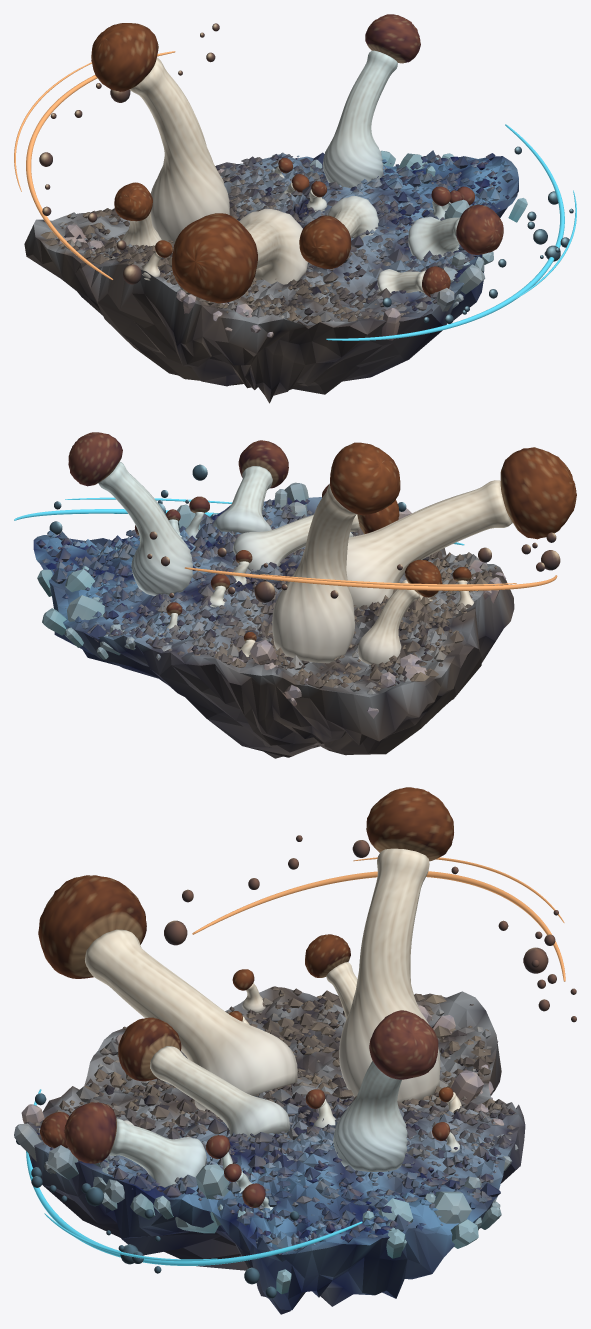
Rendered from Amber-Orbit-Spray-Land.glb.
3 views of the same model, one above another, from view 1: azimuth 30°, elevation 25°; view 2: azimuth 150°, elevation 25°; view 3: azimuth 270°, elevation 25° (orthographic). The views are drawn at different scales.
Parts seen in each view (by area): view 1: Obsidian | mineral crust, Ivory | satin fibers, Chestnut | copper skin, Quartz | warm and cool facets, Dew | blue glass sheen, Orbit | blue, Orbit | copper; view 2: Obsidian | mineral crust, Ivory | satin fibers, Chestnut | copper skin, Quartz | warm and cool facets, Dew | blue glass sheen, Orbit | copper, Orbit | blue; view 3: Obsidian | mineral crust, Ivory | satin fibers, Chestnut | copper skin, Quartz | warm and cool facets, Dew | blue glass sheen, Orbit | copper, Orbit | blue.
Part boxes in pixels (left/top/right/bottom): Obsidian | mineral crust: left=24, top=150, right=518, bottom=403; Ivory | satin fibers: left=122, top=50, right=460, bottom=293; Chestnut | copper skin: left=91, top=14, right=503, bottom=303; Quartz | warm and cool facets: left=57, top=150, right=527, bottom=340; Dew | blue glass sheen: left=39, top=23, right=573, bottom=323; Orbit | blue: left=326, top=124, right=576, bottom=340; Orbit | copper: left=14, top=51, right=175, bottom=279; Obsidian | mineral crust: left=33, top=497, right=514, bottom=758; Ivory | satin fibers: left=98, top=462, right=512, bottom=666; Chestnut | copper skin: left=68, top=432, right=576, bottom=640; Quartz | warm and cool facets: left=37, top=482, right=505, bottom=718; Dew | blue glass sheen: left=49, top=464, right=560, bottom=602; Orbit | copper: left=184, top=567, right=557, bottom=590; Orbit | blue: left=14, top=497, right=464, bottom=545; Obsidian | mineral crust: left=25, top=986, right=525, bottom=1314; Ivory | satin fibers: left=85, top=848, right=461, bottom=1212; Chestnut | copper skin: left=38, top=787, right=453, bottom=1207; Quartz | warm and cool facets: left=14, top=1004, right=518, bottom=1294; Dew | blue glass sheen: left=16, top=835, right=576, bottom=1298; Orbit | copper: left=192, top=857, right=565, bottom=981; Orbit | blue: left=26, top=1089, right=362, bottom=1265.
Size of the model in its own units: 24 by 16.15 by 18.94.
